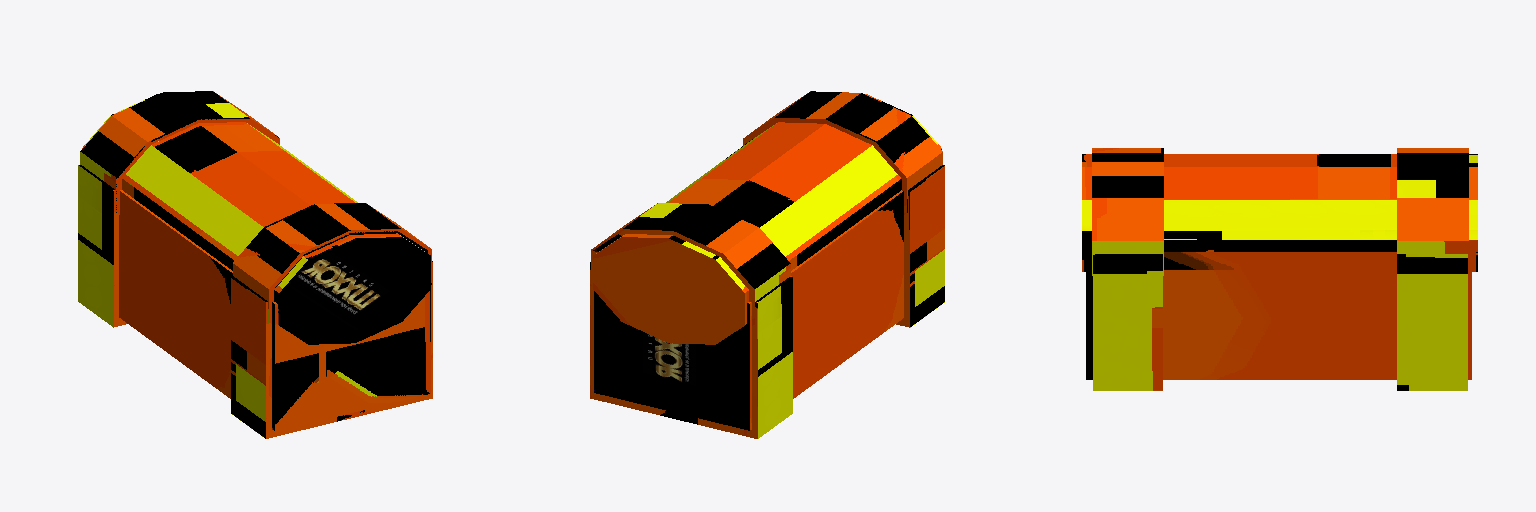
3 renders of one model, left to right at view 1: azimuth 30°, elevation 25°; view 2: azimuth 150°, elevation 25°; view 3: azimuth 270°, elevation 25°, orthographic.
Visible parts, largest first — view 1: Cylinder_Cylinder.001; view 2: Cylinder_Cylinder.001; view 3: Cylinder_Cylinder.001.
Boxes of the visible parts, box(x1,y1,x2,y2) form: Cylinder_Cylinder.001: box(78, 91, 432, 438); Cylinder_Cylinder.001: box(590, 91, 944, 438); Cylinder_Cylinder.001: box(1082, 148, 1477, 390).
Bounding box in the file's own units: 6.4 × 6.88 × 13.09.
1 materials, 1 textured.